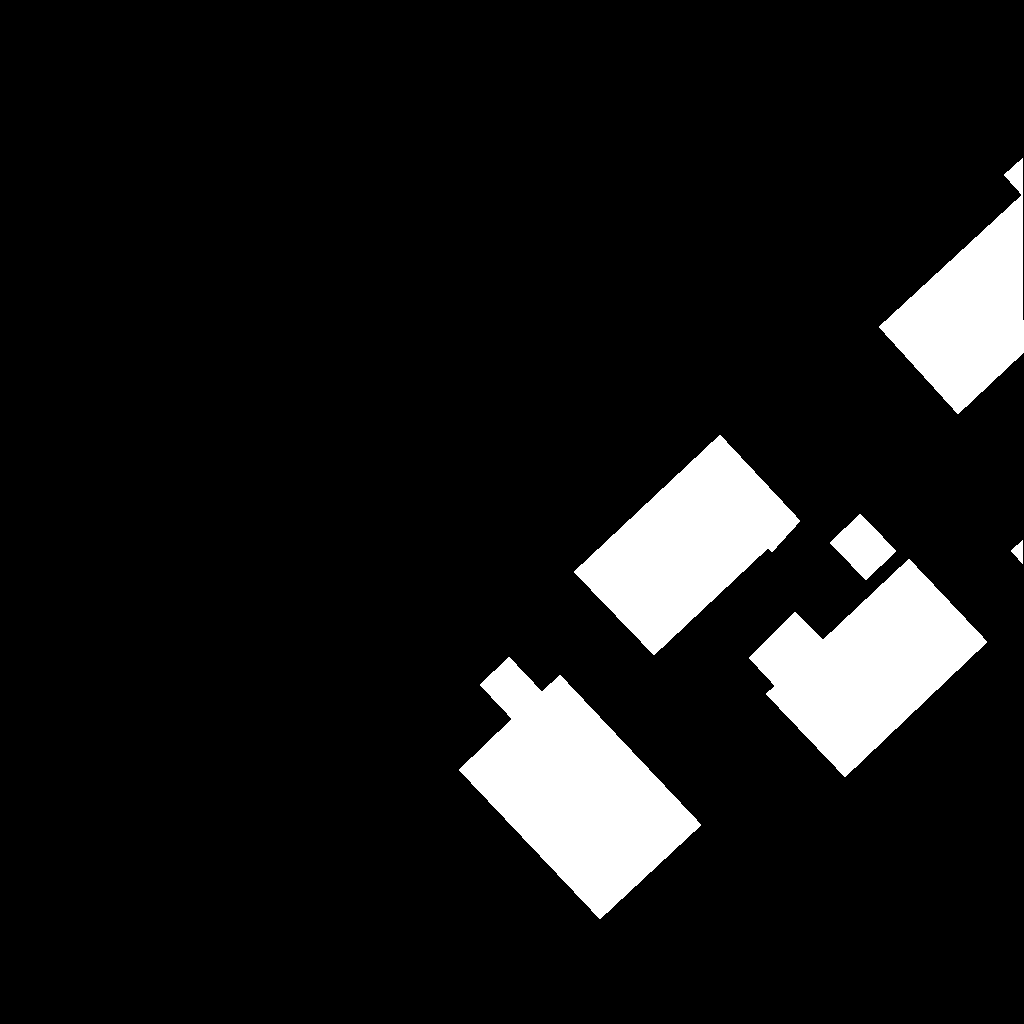building: (459, 657, 702, 920), (749, 559, 988, 778), (574, 435, 801, 656), (879, 158, 1024, 415), (830, 514, 897, 581), (1011, 540, 1024, 565)
